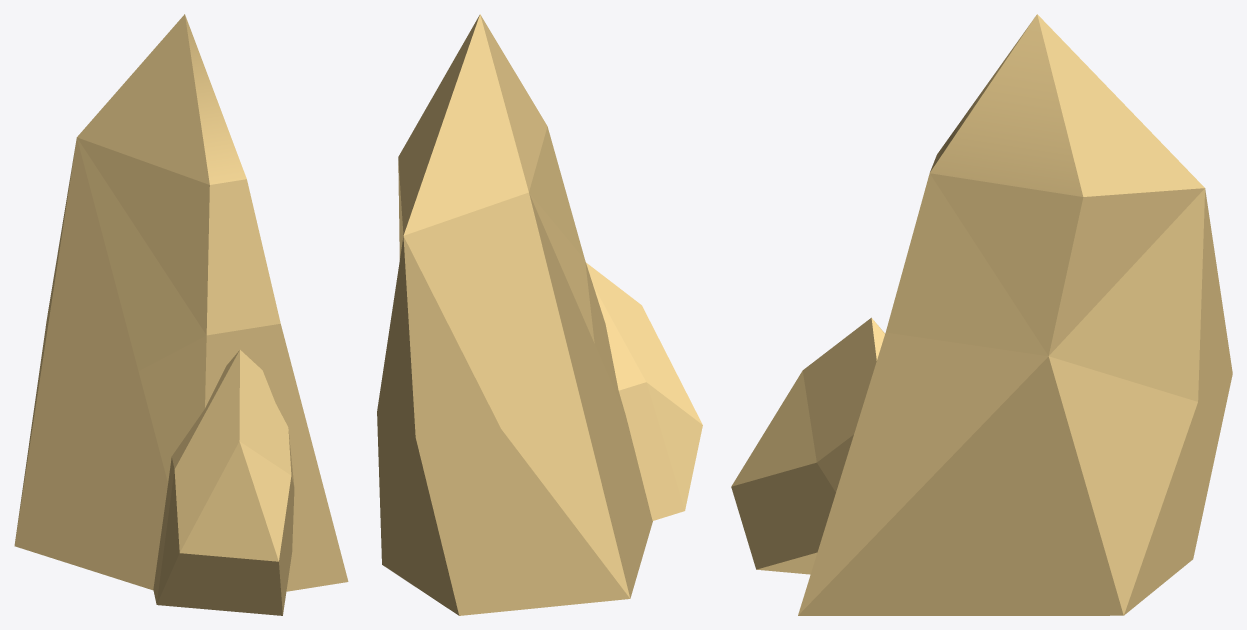
Rendered from Rock(middle).FBX.
3 views of the same model, side by side, from view 1: azimuth 30°, elevation 25°; view 2: azimuth 150°, elevation 25°; view 3: azimuth 270°, elevation 25° (orthographic). The views are drawn at different scales.
Visible parts, largest first — view 1: Sphere037; view 2: Sphere037; view 3: Sphere037.
Part boxes in pixels (x1,y1,x2,y2): Sphere037: (14,14,348,615); Sphere037: (377,14,702,615); Sphere037: (731,14,1232,615).
Bounding box in the file's own units: 3.63 × 7.75 × 6.15.
